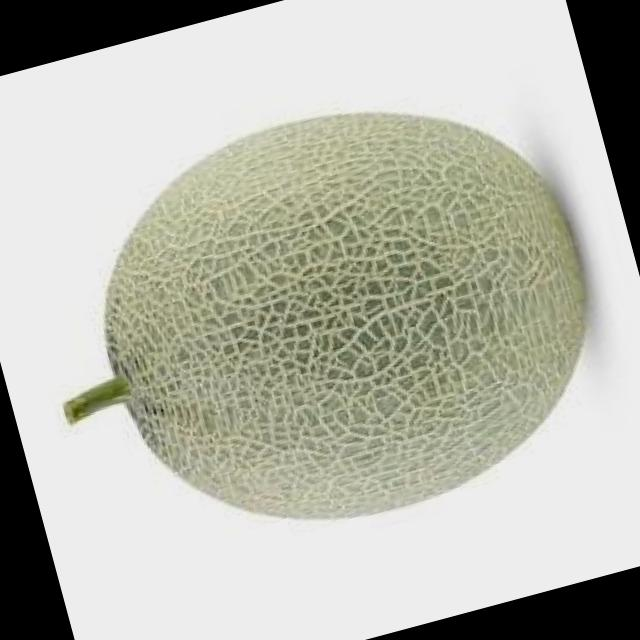cantaloupe: (6, 58, 628, 584)
